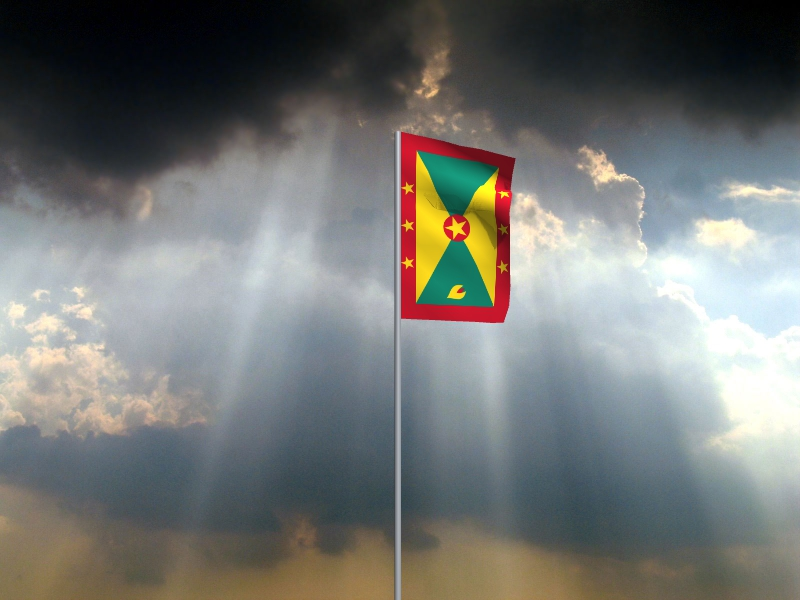gd: (402, 133, 517, 325)
